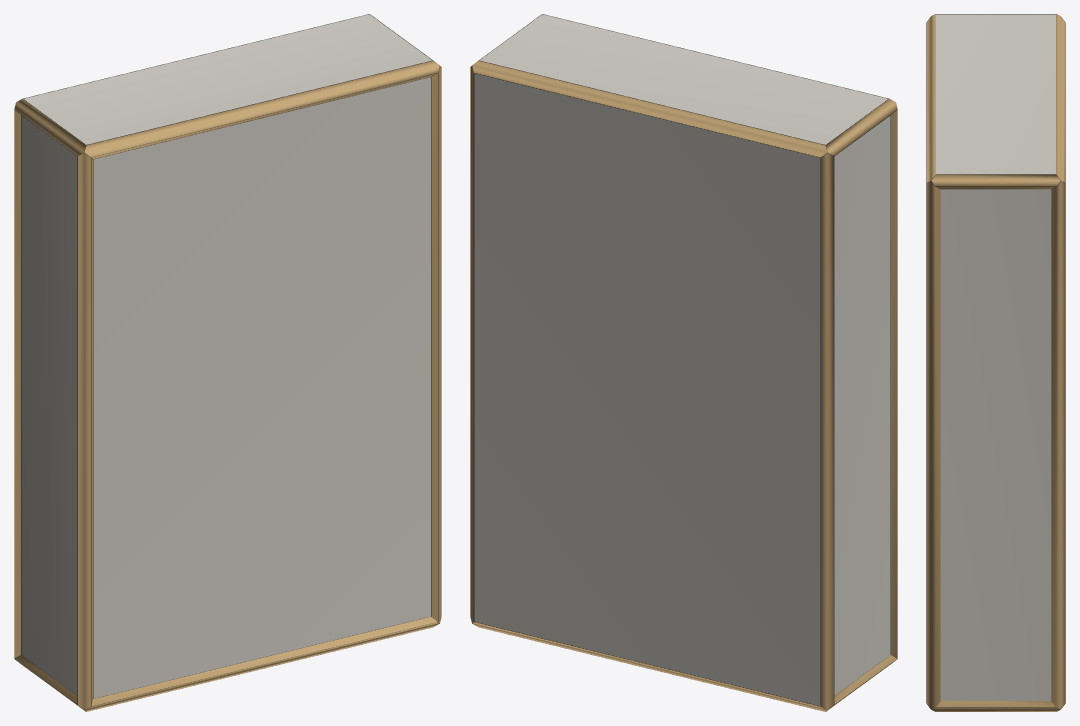
The model's file is dressing-1200.glb.
The picture shows the model from 3 angles, left to right: view 1: azimuth 30°, elevation 25°; view 2: azimuth 150°, elevation 25°; view 3: azimuth 270°, elevation 25°; orthographic projection. The views are drawn at different scales.
Visible parts, largest first — view 1: panneau-fond, panneau-joue1, panneau-dessus_exterieur, arete-Z0, arete-Z1, arete-X2, arete-X0, arete-Z2, panneau-wire-fond, arete-Y2, arete-wire-Z0; view 2: panneau-porte, panneau-joue1, panneau-dessus_exterieur, arete-Z2, arete-X3, arete-Z0, arete-Z3, arete-X1, arete-Y2, arete-wire-Z2, panneau-wire-porte; view 3: panneau-joue2, panneau-dessus_exterieur, arete-Z1, arete-Z3, arete-Y3, arete-X2, arete-X3, arete-Y1, arete-wire-Z1, arete-wire-Z3.
Boxes of the visible parts, x1,y1,x2,y2 form: panneau-fond: [93, 77, 430, 698]; panneau-joue1: [21, 115, 77, 695]; panneau-dessus_exterieur: [23, 14, 432, 144]; arete-Z0: [78, 152, 92, 709]; arete-Z1: [431, 66, 441, 622]; arete-X2: [84, 61, 439, 159]; arete-X0: [85, 617, 439, 711]; arete-Z2: [14, 110, 20, 658]; panneau-wire-fond: [93, 77, 431, 698]; arete-Y2: [14, 99, 85, 155]; arete-wire-Z0: [77, 153, 92, 706]; panneau-porte: [474, 73, 820, 705]; panneau-joue1: [834, 115, 890, 695]; panneau-dessus_exterieur: [479, 14, 888, 144]; arete-Z2: [821, 152, 833, 709]; arete-X3: [472, 61, 827, 157]; arete-Z0: [891, 110, 897, 658]; arete-Z3: [470, 66, 473, 622]; arete-X1: [472, 622, 826, 711]; arete-Y2: [826, 99, 897, 155]; arete-wire-Z2: [820, 153, 834, 706]; panneau-wire-porte: [474, 73, 819, 705]; panneau-joue2: [940, 189, 1051, 700]; panneau-dessus_exterieur: [936, 14, 1055, 174]; arete-Z1: [926, 181, 940, 709]; arete-Z3: [1051, 181, 1065, 709]; arete-Y3: [931, 174, 1060, 189]; arete-X2: [926, 14, 935, 182]; arete-X3: [1056, 14, 1065, 182]; arete-Y1: [931, 701, 1060, 711]; arete-wire-Z1: [926, 181, 939, 703]; arete-wire-Z3: [1065, 183, 1065, 703].
Bounding box in the file's own units: 1.23 × 1.83 × 0.4288.
